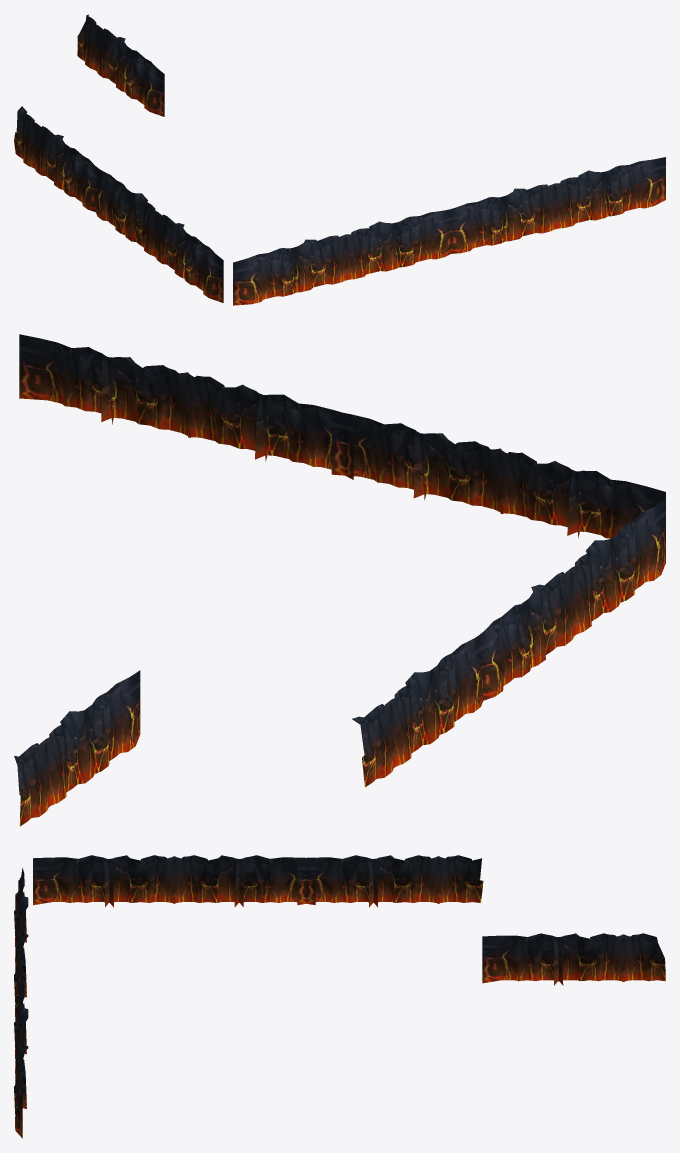
File: chnagjing_sjb_06.FBX
3 renders of one model, top to bottom at view 1: azimuth 30°, elevation 25°; view 2: azimuth 150°, elevation 25°; view 3: azimuth 270°, elevation 25°, orthographic. The views are drawn at different scales.
Visible parts, largest first — view 1: chnagjing_sjb_06; view 2: chnagjing_sjb_06; view 3: chnagjing_sjb_06.
Part boxes in pixels (x1,y1,x2,y2): chnagjing_sjb_06: (14, 14, 665, 305); chnagjing_sjb_06: (14, 334, 665, 826); chnagjing_sjb_06: (14, 855, 665, 1138).
Size of the model in its own units: 2155 by 2504 by 216.
